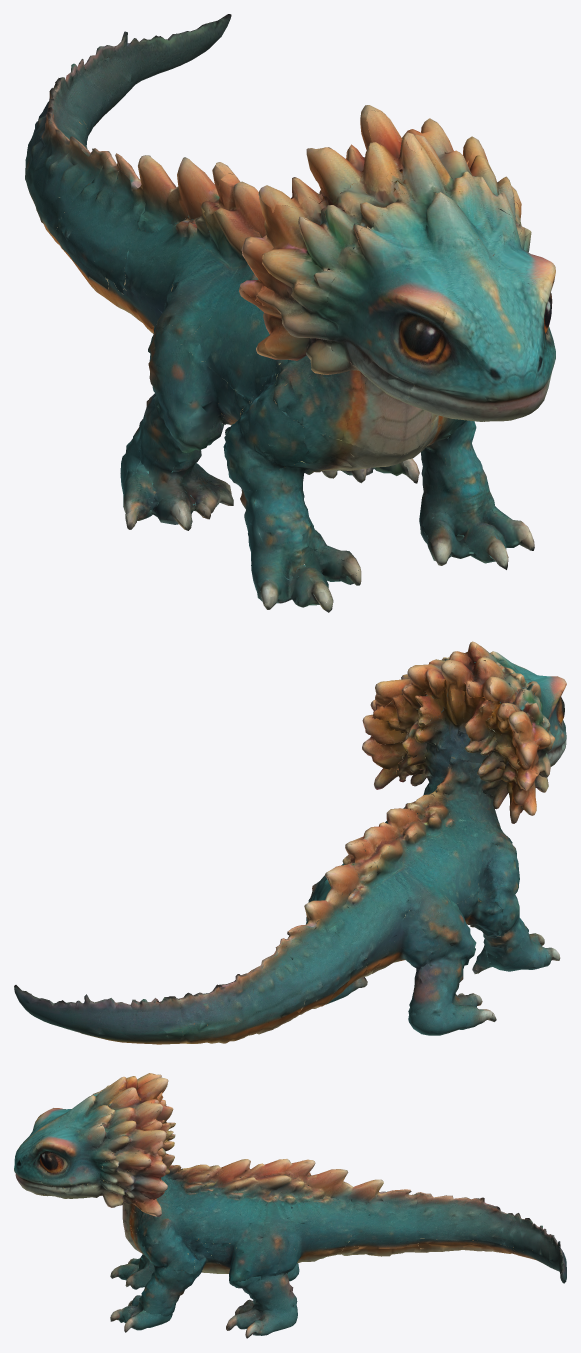
File: coral-gecko-lowpoly-v1.glb
3 renders of one model, top to bottom at view 1: azimuth 30°, elevation 25°; view 2: azimuth 150°, elevation 25°; view 3: azimuth 270°, elevation 25°, orthographic. The views are drawn at different scales.
Parts seen in each view (by area): view 1: CoralGecko; view 2: CoralGecko; view 3: CoralGecko.
Boxes of the visible parts, box(x1,y1,x2,y2) form: CoralGecko: box(25, 14, 555, 612); CoralGecko: box(14, 641, 566, 1044); CoralGecko: box(14, 1073, 566, 1338).
Bounding box in the file's own units: 0.8755 × 0.9146 × 2.
1 material, 1 textured.
